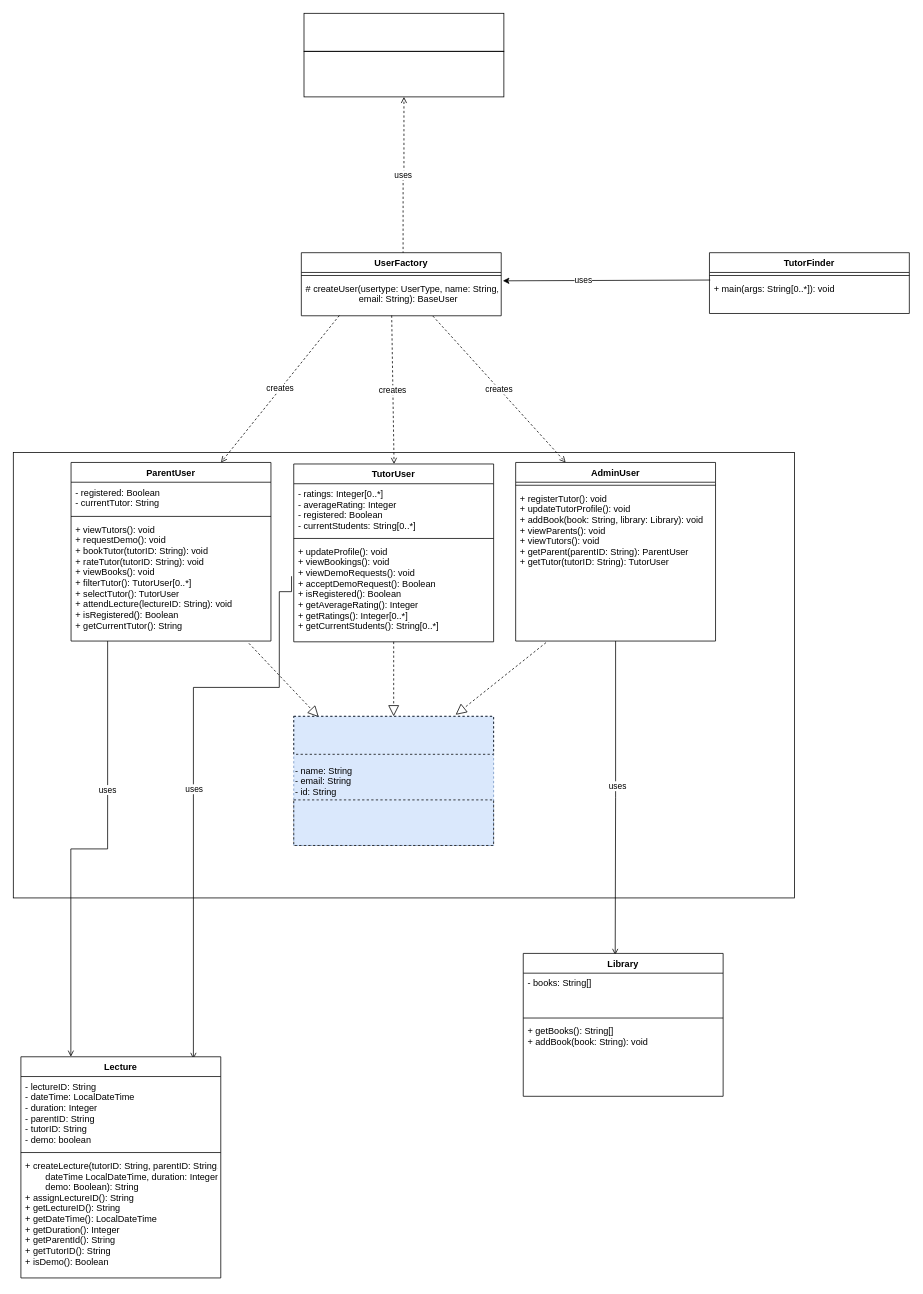
This 923x1294 diagram has some shape labels left out. The shapes that lost their labels are listed below. From the top down, each one's centre as x and y in pixels, then its label:
At (403,32): "«type» UserType".
At (403,74): "+ Parent | Tutor | Admin: Enum".
At (393,735): "«abstract class» BaseUser".
At (393,822): "+ getName(): String + getEmail(): String # getID(): String + login(): void".
